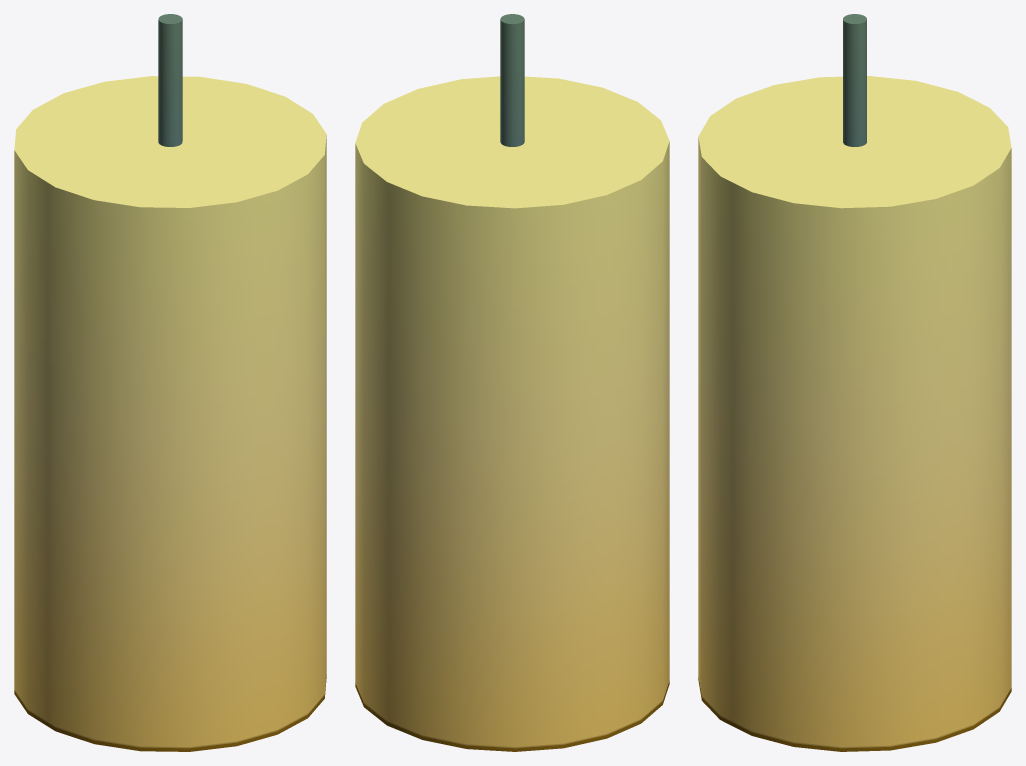
File: SM_Candle_02.fbx
3 renders of one model, left to right at view 1: azimuth 30°, elevation 25°; view 2: azimuth 150°, elevation 25°; view 3: azimuth 270°, elevation 25°, orthographic.
Visible parts, largest first — view 1: SM_Candle_02; view 2: SM_Candle_02; view 3: SM_Candle_02.
Part boxes in pixels (x1,y1,x2,y2): SM_Candle_02: (14,14,326,751); SM_Candle_02: (355,14,669,751); SM_Candle_02: (698,14,1011,751).
Size of the model in its own units: 13.75 by 32.3 by 13.75.
